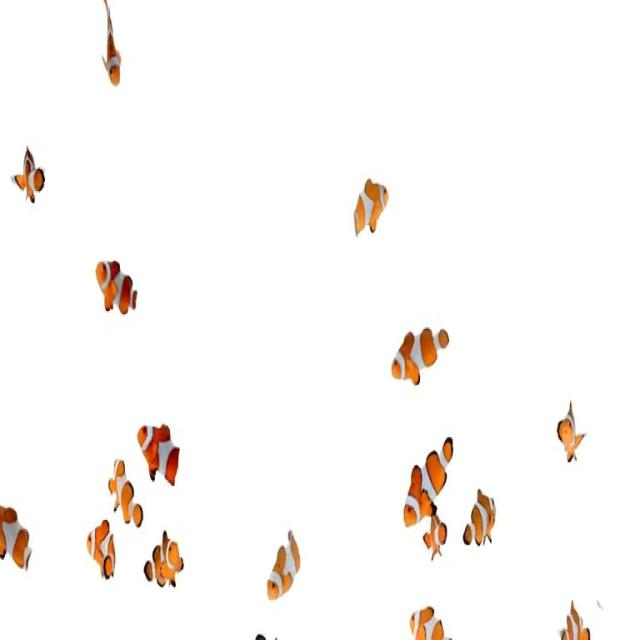fish: (400, 434, 455, 526), (391, 327, 451, 392), (262, 516, 307, 602), (352, 159, 394, 251), (0, 486, 38, 587), (136, 529, 190, 592), (137, 422, 185, 492), (464, 486, 505, 556), (97, 258, 141, 320), (11, 144, 47, 208), (108, 459, 139, 533), (558, 403, 586, 475), (104, 0, 126, 86), (86, 524, 120, 578), (404, 606, 448, 640), (424, 515, 456, 560), (558, 602, 588, 640)
